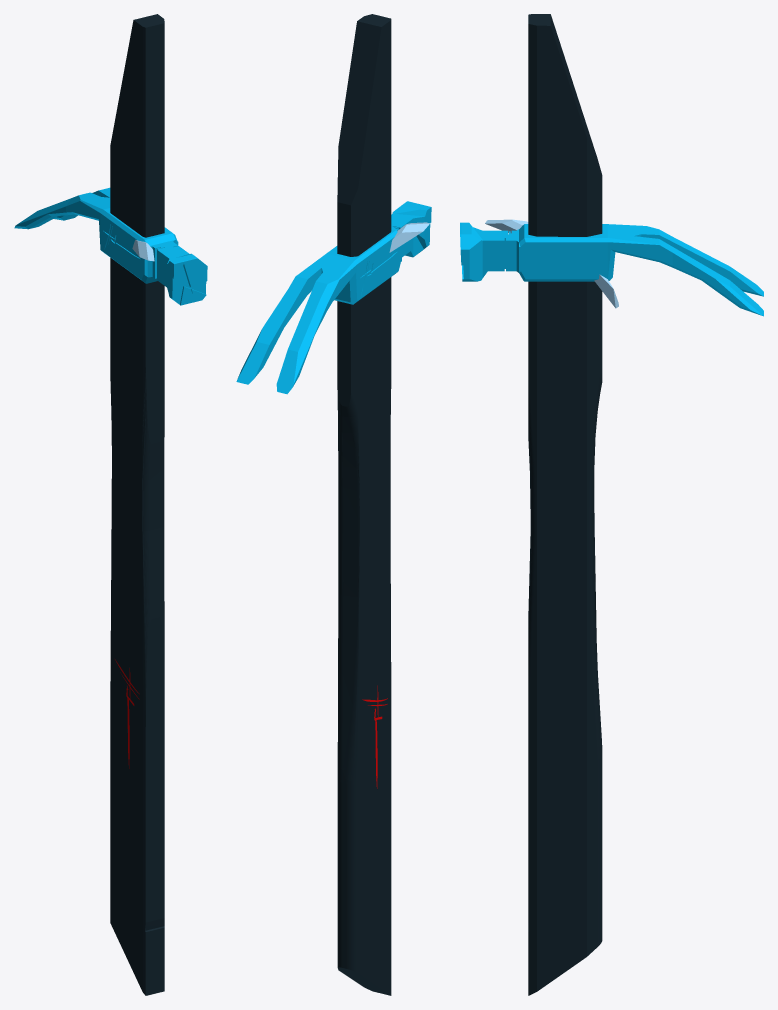
Rendered from Hercules.glb.
The picture shows the model from 3 angles, left to right: view 1: azimuth 30°, elevation 25°; view 2: azimuth 150°, elevation 25°; view 3: azimuth 270°, elevation 25°; orthographic projection.
Parts seen in each view (by area): view 1: temp_export, Node_3; view 2: temp_export, Node_3 (×2); view 3: temp_export, Node_3 (×2).
Boxes of the visible parts, x1,y1,x2,y2 form: temp_export: [110, 14, 164, 995]; Node_3: [14, 187, 207, 305]; temp_export: [337, 14, 391, 995]; Node_3 (×2): [236, 201, 431, 394]; temp_export: [528, 14, 602, 995]; Node_3 (×2): [460, 219, 763, 316].
Bounding box in the file's own units: 0.0642 × 1.05 × 0.2964.
